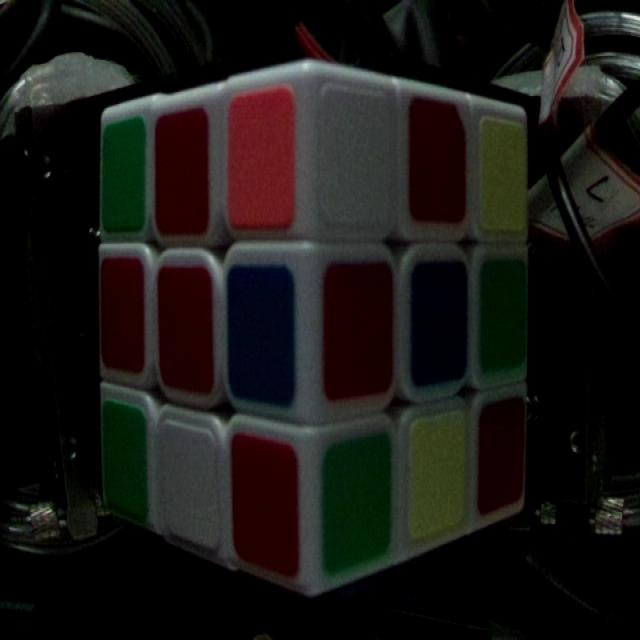b: (229, 267, 293, 403), (415, 264, 465, 382)
g: (325, 436, 391, 560), (102, 399, 146, 510), (101, 120, 142, 230), (484, 261, 524, 365)
o: (230, 97, 292, 229)
r: (327, 262, 391, 394), (232, 438, 296, 569), (412, 99, 468, 219), (158, 269, 214, 385), (157, 113, 206, 229), (98, 258, 145, 366), (483, 408, 525, 510)
w: (322, 81, 393, 225), (161, 422, 219, 548)
y: (412, 422, 464, 534), (484, 117, 524, 225)
